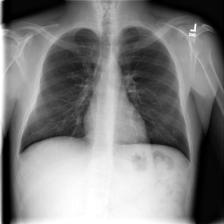normal: (18, 20, 194, 175)
